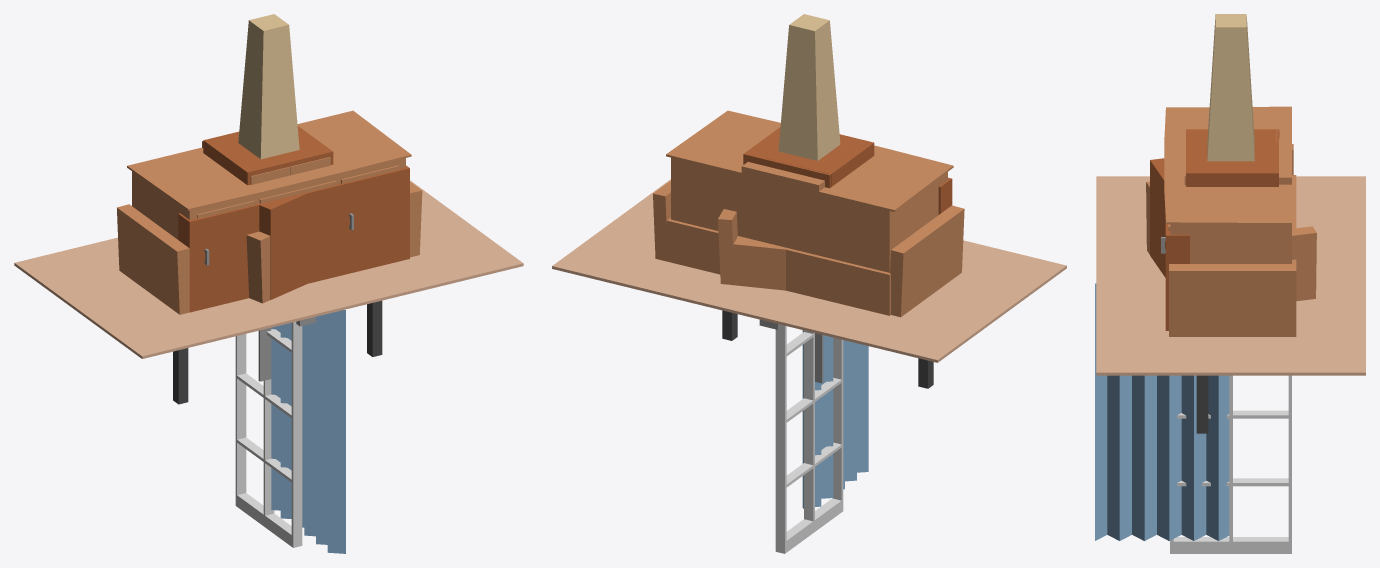
File: livingroom_all_assets.fbx
The picture shows the model from 3 angles, left to right: view 1: azimuth 30°, elevation 25°; view 2: azimuth 150°, elevation 25°; view 3: azimuth 270°, elevation 25°; orthographic projection. The views are drawn at different scales.
Parts seen in each view (by area): view 1: carpet, sofa, curtain, TV_bottom, window, ornamental_plant, sofa2, cabinet, TV; view 2: TV_bottom, carpet, sofa, window, ornamental_plant, curtain, sofa2, cabinet, TV; view 3: carpet, curtain, TV_bottom, sofa, ornamental_plant, window, cabinet, sofa2, TV.
Boxes of the visible parts, box(x1,y1,x2,y2) form: carpet: box(14, 180, 523, 358); sofa: box(117, 165, 422, 314); curtain: box(271, 310, 345, 553); TV_bottom: box(127, 110, 411, 239); window: box(235, 321, 302, 547); ornamental_plant: box(238, 14, 299, 159); sofa2: box(246, 193, 307, 303); cabinet: box(203, 126, 333, 185); TV: box(173, 300, 382, 404); TV_bottom: box(666, 110, 953, 272); carpet: box(552, 179, 1066, 362); sofa: box(653, 177, 964, 317); window: box(775, 325, 843, 553); ornamental_plant: box(778, 14, 840, 160); curtain: box(802, 330, 868, 508); sofa2: box(718, 209, 798, 290); cabinet: box(743, 127, 874, 188); TV: box(722, 310, 933, 388); carpet: box(1096, 176, 1365, 375); curtain: box(1095, 283, 1229, 540); TV_bottom: box(1164, 106, 1291, 263); sofa: box(1165, 144, 1296, 336); ornamental_plant: box(1207, 14, 1254, 161); window: box(1170, 375, 1291, 553); cabinet: box(1186, 129, 1279, 186); sofa2: box(1146, 158, 1316, 301); TV: box(1196, 375, 1208, 433).
Bounding box in the file's own units: 763 × 962 × 445.
